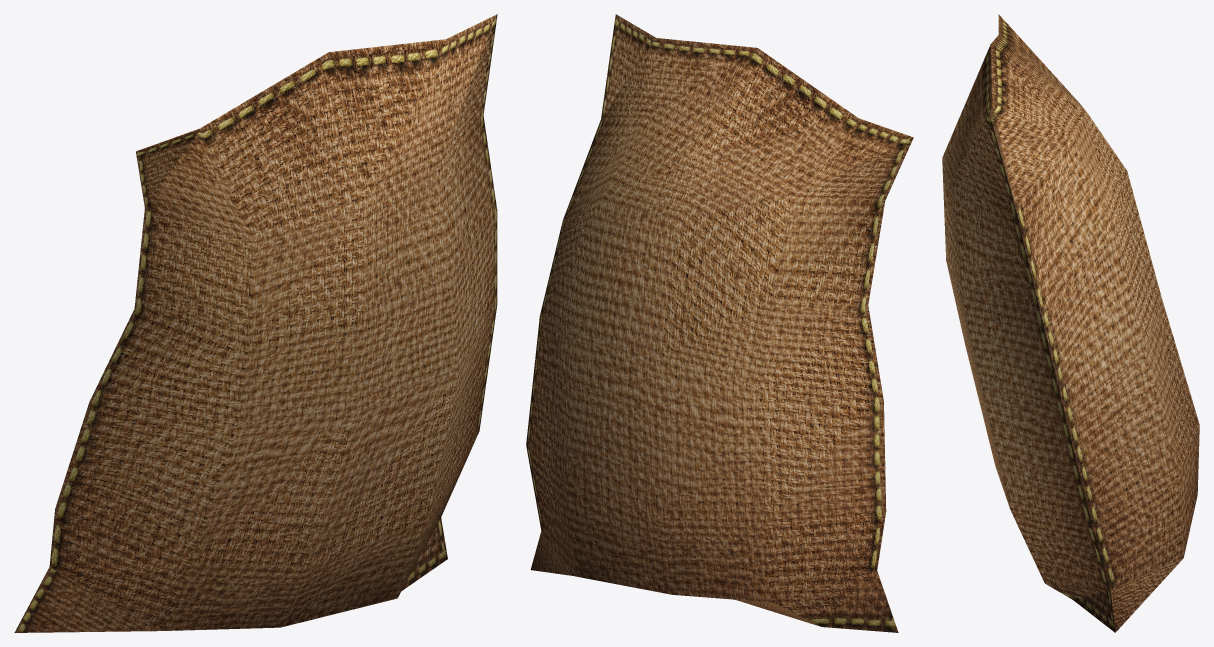
File: mm9_deco_sack01p350r356.glb
The picture shows the model from 3 angles, left to right: view 1: azimuth 30°, elevation 25°; view 2: azimuth 150°, elevation 25°; view 3: azimuth 270°, elevation 25°; orthographic projection. The views are drawn at different scales.
Parts seen in each view (by area): view 1: Sack01p350r356; view 2: Sack01p350r356; view 3: Sack01p350r356.
Boxes of the visible parts, x1,y1,x2,y2 form: Sack01p350r356: [14, 14, 497, 632]; Sack01p350r356: [526, 14, 913, 632]; Sack01p350r356: [942, 14, 1199, 632].
Size of the model in its own units: 0.7577 by 0.9762 by 0.4453.
1 material, 1 textured.
